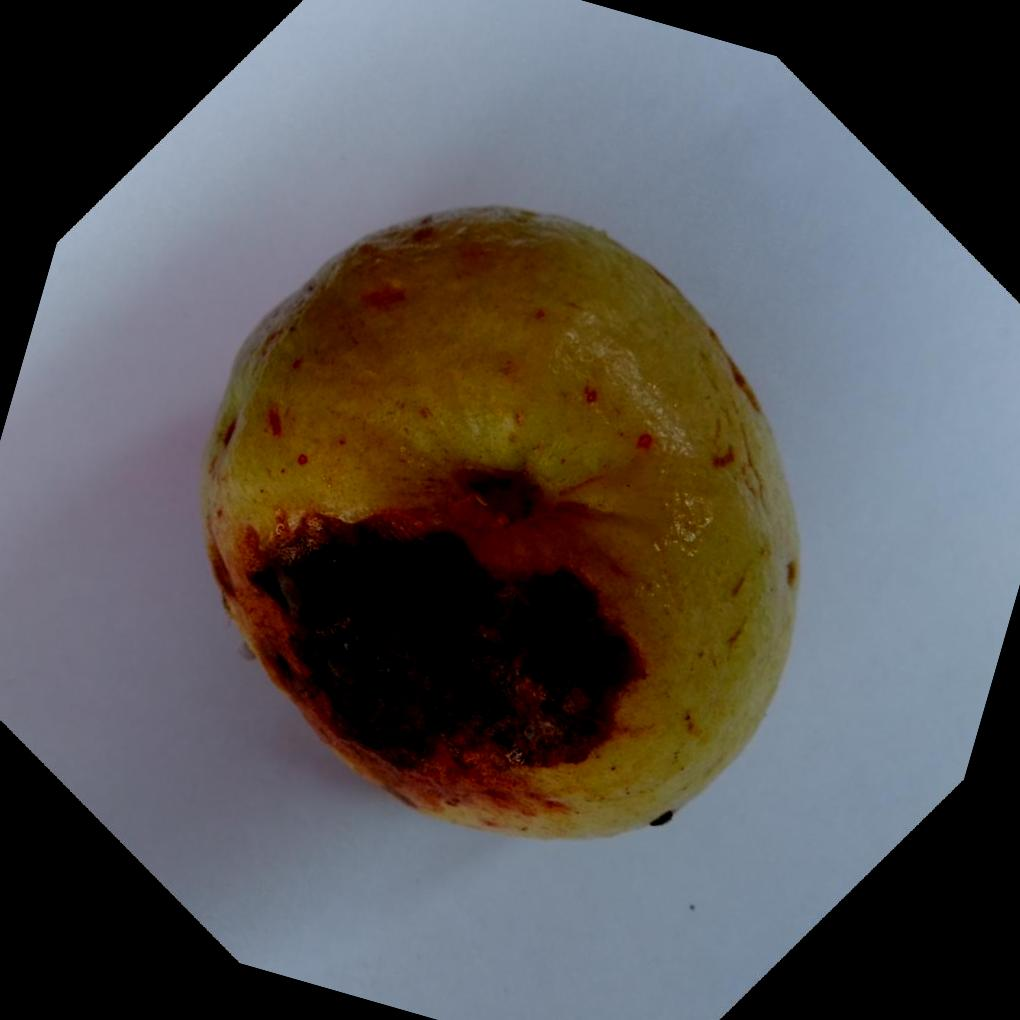FreshOrange: (196, 206, 801, 846)
